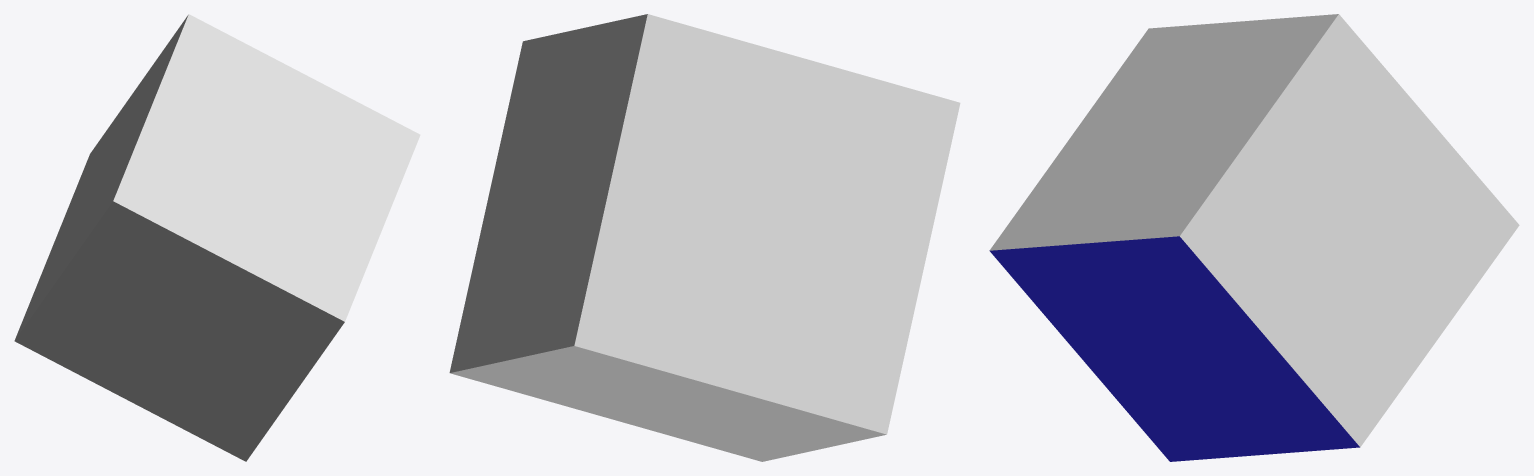
3 views of the same model, side by side, from view 1: azimuth 30°, elevation 25°; view 2: azimuth 150°, elevation 25°; view 3: azimuth 270°, elevation 25° (orthographic). The views are drawn at different scales.
Visible parts, largest first — view 1: Cube; view 2: Cube; view 3: Cube.
Part boxes in pixels (x1=…): Cube: x1=14, y1=14, x2=420, y2=461; Cube: x1=449, y1=14, x2=960, y2=461; Cube: x1=989, y1=14, x2=1519, y2=461.
Size of the model in its own units: 3 by 3.45 by 3.28.
